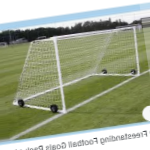goals: (12, 25, 142, 114)
